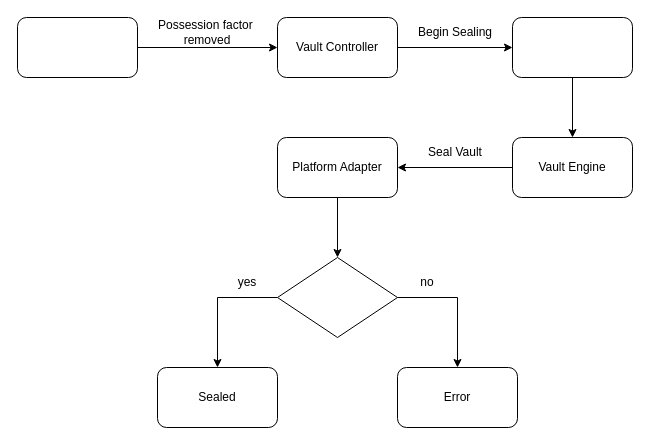
Image size: 650x445. Some labels were removed from this diagram. The centre of each missing label's shape, as x and y in pixels:
Possession Factor Manager: [77,47]
Sealing: [572,47]
Vault Sealed?: [337,297]
